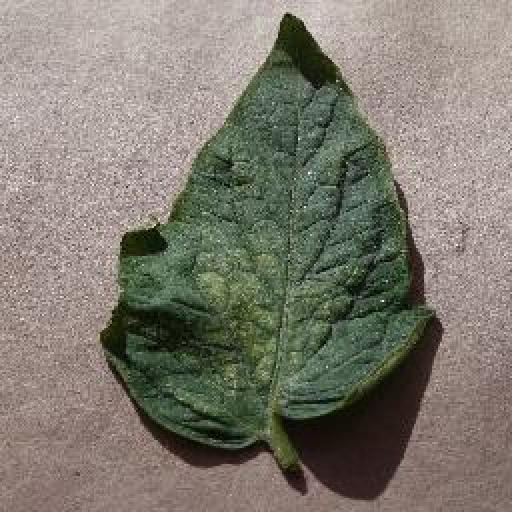disease_tomato: (97, 10, 436, 454)
